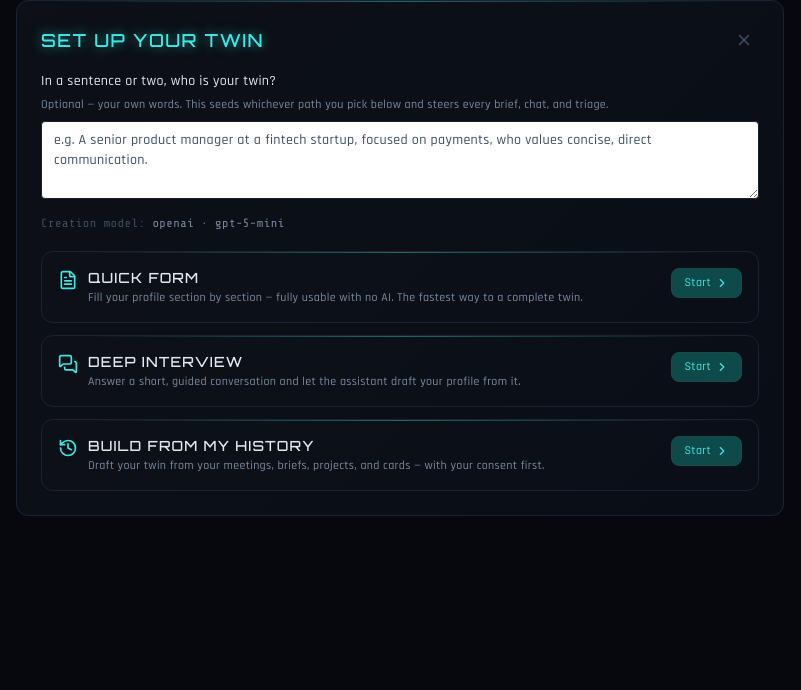
Test: TwinWizard — Quick form optional AI assist › degrades to manual (non-blocking) when no model is configured
Click the button with aria-label "start quick form" at (707, 283), box [671,268,742,298]
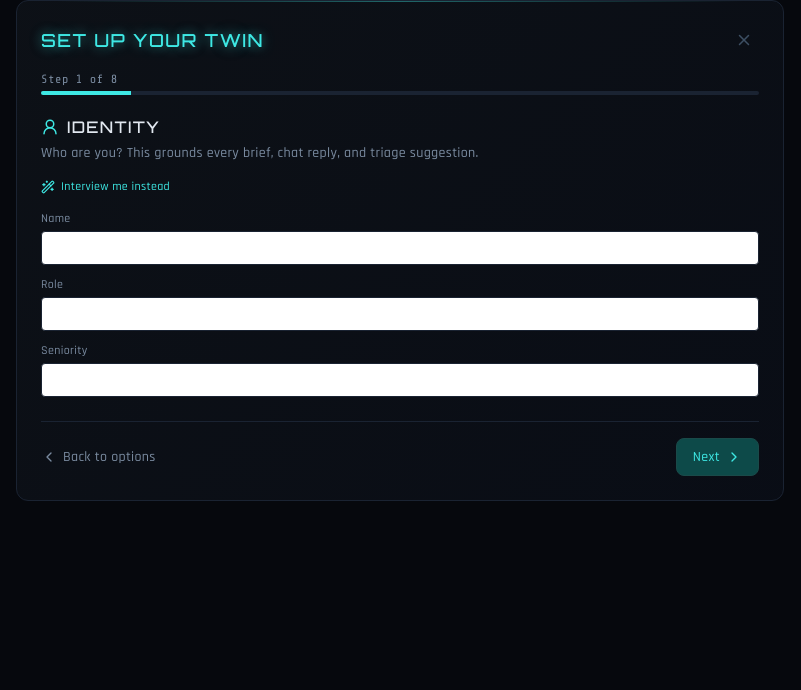
Click the button "Interview me instead" at (106, 187), box [41,179,170,195]
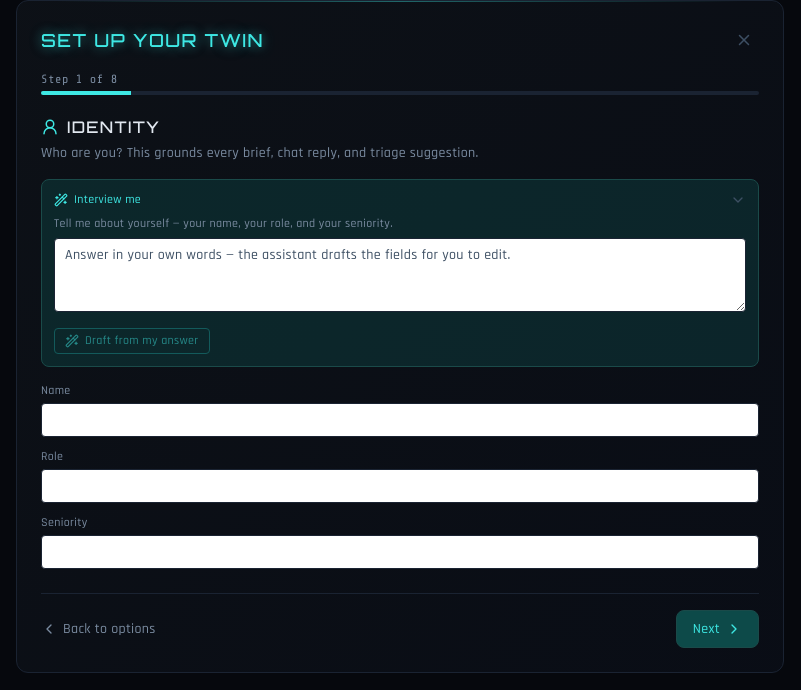
Replace the text in the text box with placeholder "Answer in your own words" with "anything" at (400, 275), box [54,238,746,312]
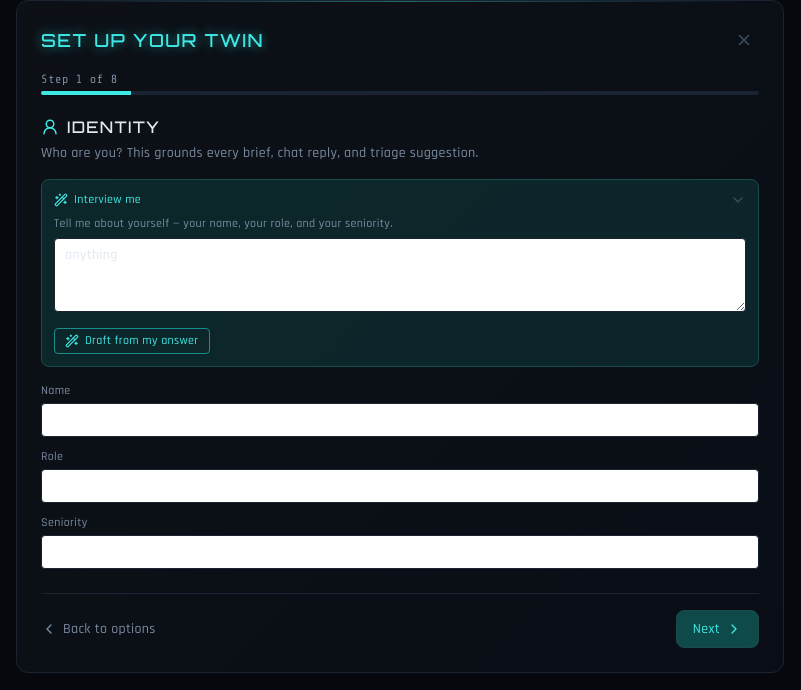
Click the button "Draft from my answer" at (132, 341), box [54,328,210,354]
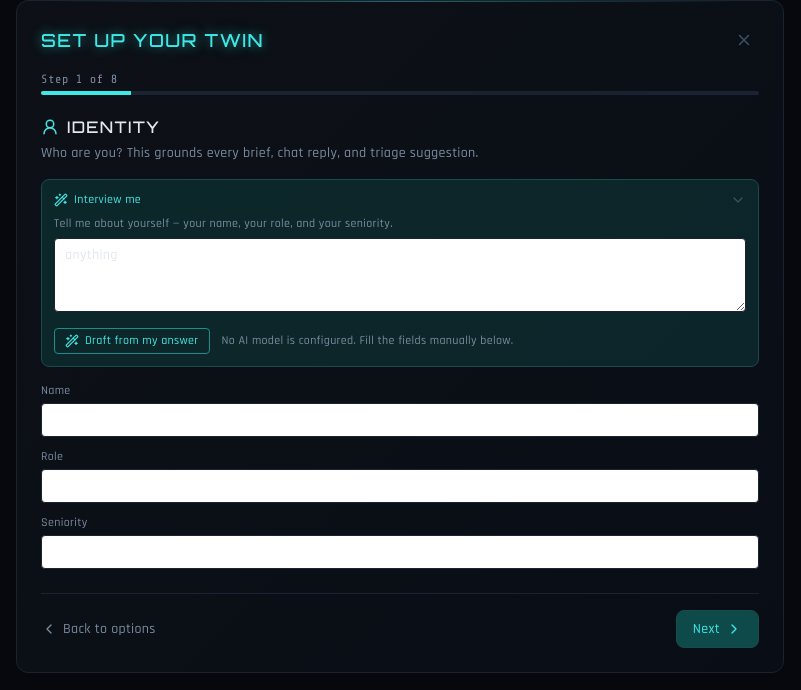
expect the field labelled "Name" is empty: met, box [41,403,759,437]
expect the text "Step 1 of 8" is shown: met, box [41,72,118,86]
expect the text "No AI model is configured. Fill the fields manually below." is shown: met, box [222,333,514,349]
